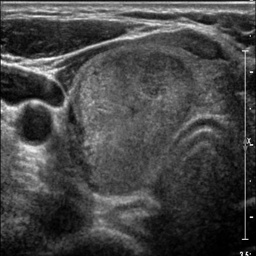mass: (68, 44, 195, 192)
